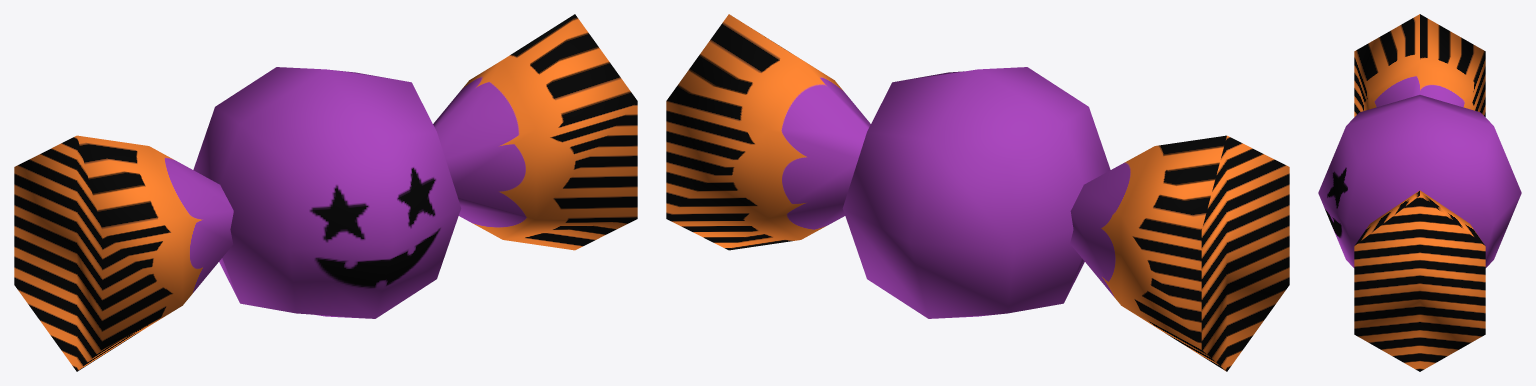
File: アイテムキャンディ.fbx
3 views of the same model, side by side, from view 1: azimuth 30°, elevation 25°; view 2: azimuth 150°, elevation 25°; view 3: azimuth 270°, elevation 25° (orthographic). The views are drawn at different scales.
Visible parts, largest first — view 1: Circle; view 2: Circle; view 3: Circle.
Boxes of the visible parts, x1,y1,x2,y2 form: Circle: [14, 14, 637, 371]; Circle: [666, 14, 1289, 371]; Circle: [1318, 14, 1521, 371].
Size of the model in its own units: 474 by 209 by 209.
1 material, 1 textured.
